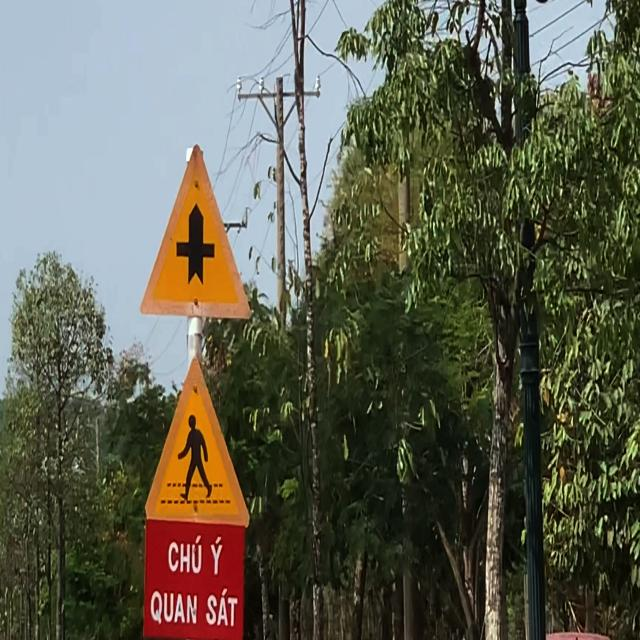Giao voi duong khong uu tien: (133, 128, 260, 330)
Nguoi di bo cat ngang: (136, 342, 254, 532)
